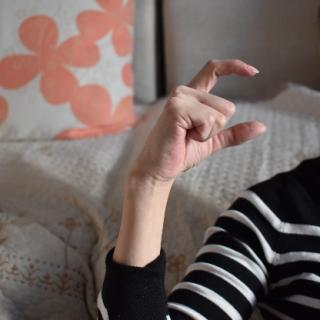DELL: (132, 55, 270, 184)
